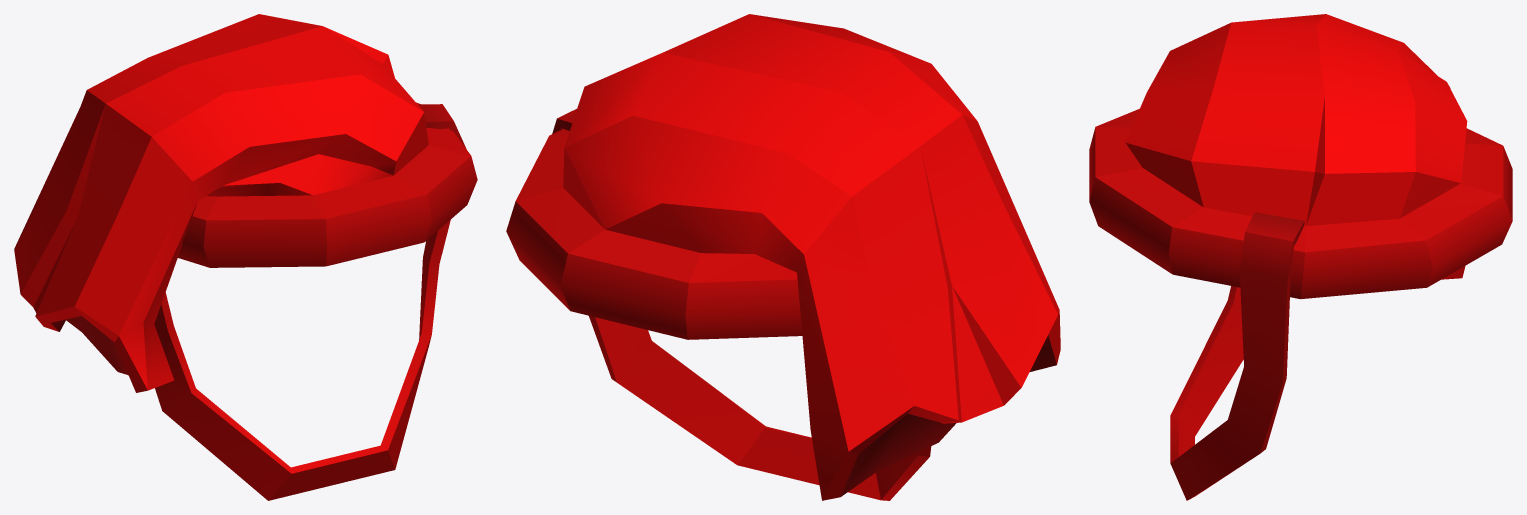
The model's file is ChaperonHat.fbx.
The picture shows the model from 3 angles, left to right: view 1: azimuth 30°, elevation 25°; view 2: azimuth 150°, elevation 25°; view 3: azimuth 270°, elevation 25°; orthographic projection. The views are drawn at different scales.
Visible parts, largest first — view 1: ChaperonHat, ChaperonHat_Strap; view 2: ChaperonHat, ChaperonHat_Strap; view 3: ChaperonHat, ChaperonHat_Strap.
Part boxes in pixels (left/top/right/bottom): ChaperonHat: left=14, top=14, right=477, bottom=392; ChaperonHat_Strap: left=154, top=104, right=466, bottom=500; ChaperonHat: left=506, top=14, right=1060, bottom=500; ChaperonHat_Strap: left=552, top=109, right=931, bottom=500; ChaperonHat: left=1089, top=14, right=1512, bottom=299; ChaperonHat_Strap: left=1170, top=212, right=1304, bottom=500.
Bounding box in the file's own units: 43.67 × 40.5 × 38.41.
